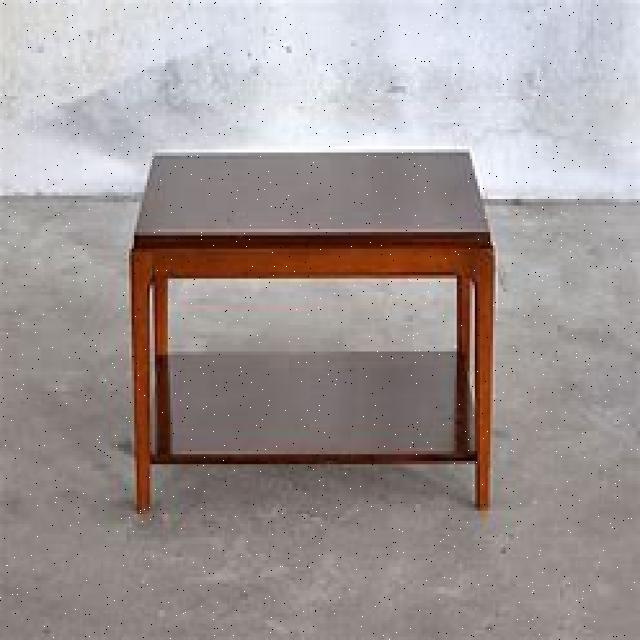mobile-phone: (128, 140, 496, 519)
